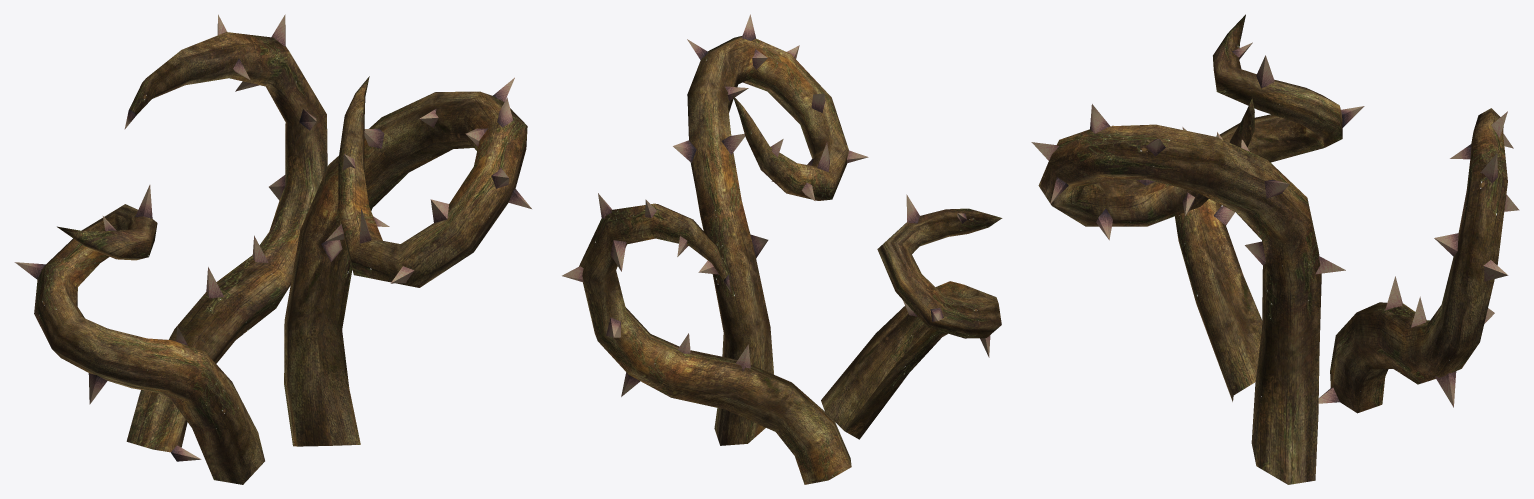
File: obj_mtthund_thorn03_a.glb
3 views of the same model, side by side, from view 1: azimuth 30°, elevation 25°; view 2: azimuth 150°, elevation 25°; view 3: azimuth 270°, elevation 25° (orthographic). The views are drawn at different scales.
Parts seen in each view (by area): view 1: obj_mtthund_thorn03_a; view 2: obj_mtthund_thorn03_a; view 3: obj_mtthund_thorn03_a.
Part boxes in pixels (bbox=[...]): obj_mtthund_thorn03_a: bbox=[14, 14, 531, 484]; obj_mtthund_thorn03_a: bbox=[562, 14, 1002, 484]; obj_mtthund_thorn03_a: bbox=[1031, 14, 1519, 484].
Size of the model in its own units: 13.88 by 13.04 by 13.93.
1 material, 1 textured.
